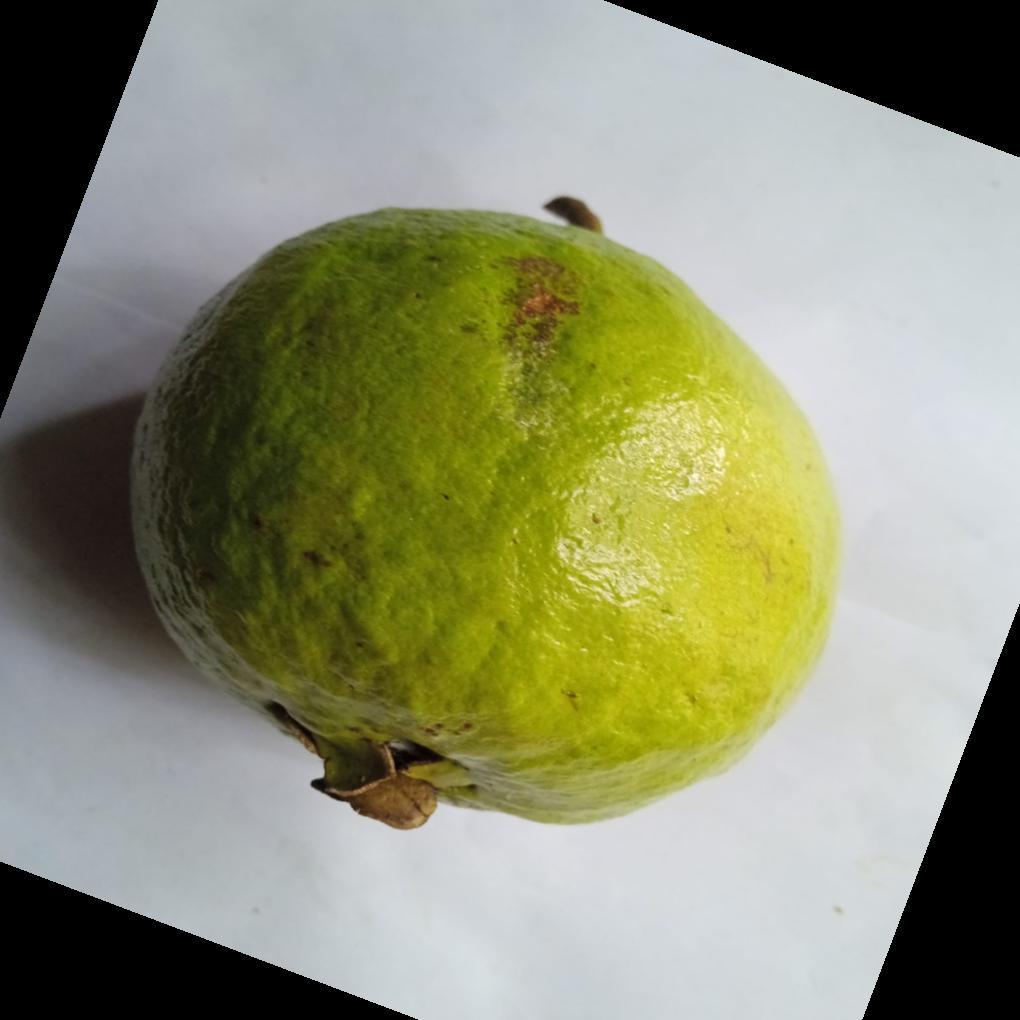FreshGuava: (126, 202, 843, 834)
